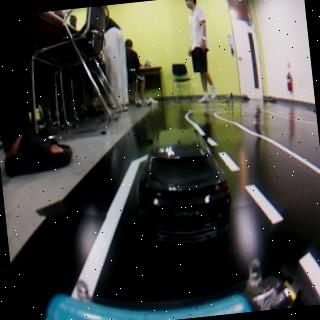car: (127, 123, 233, 247)
